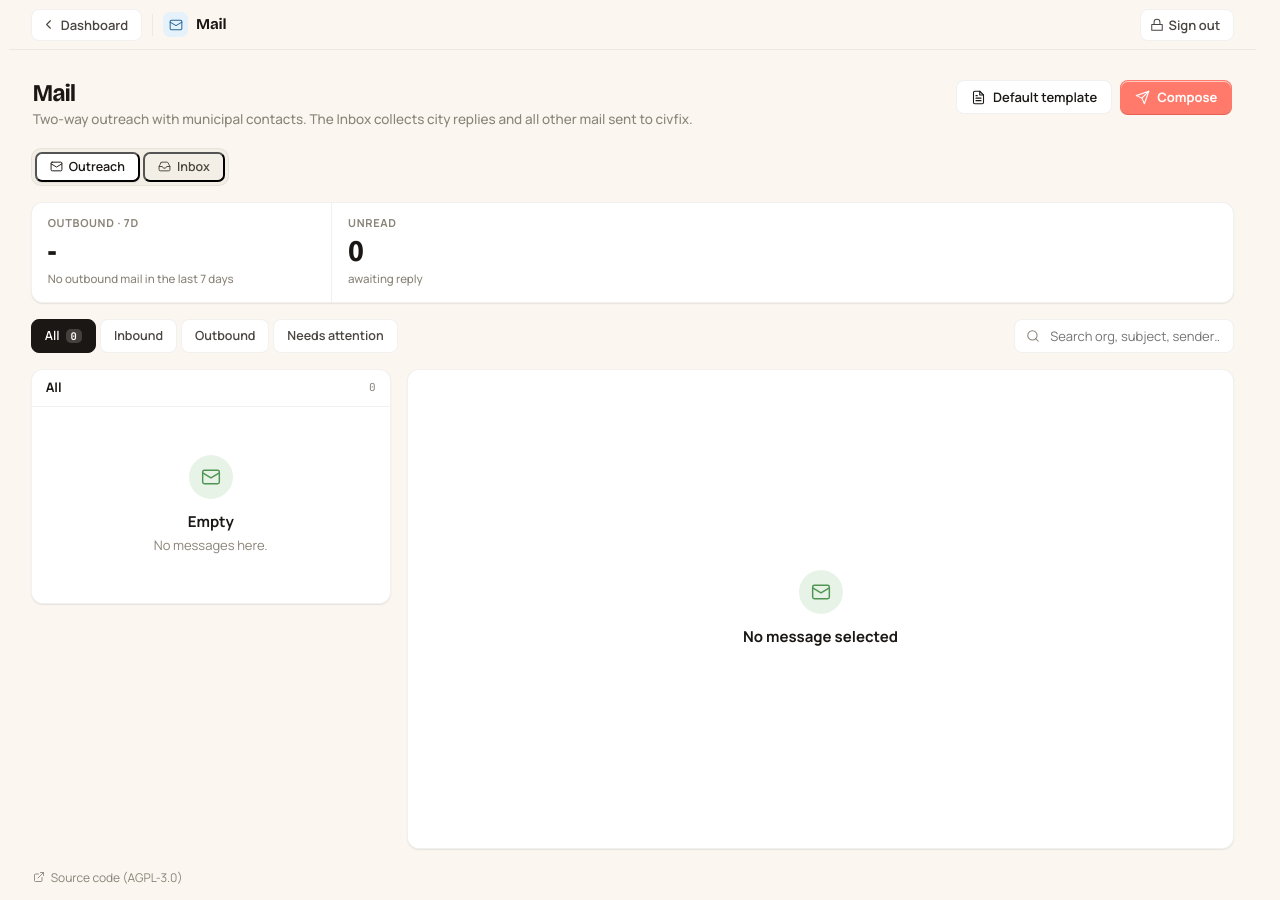
Test: Mail compose modal › closes an empty draft on Escape without leaving Mail, and restores focus
Click the button "Compose" at (1176, 97), box x1=1120 y1=80 x2=1232 y2=114
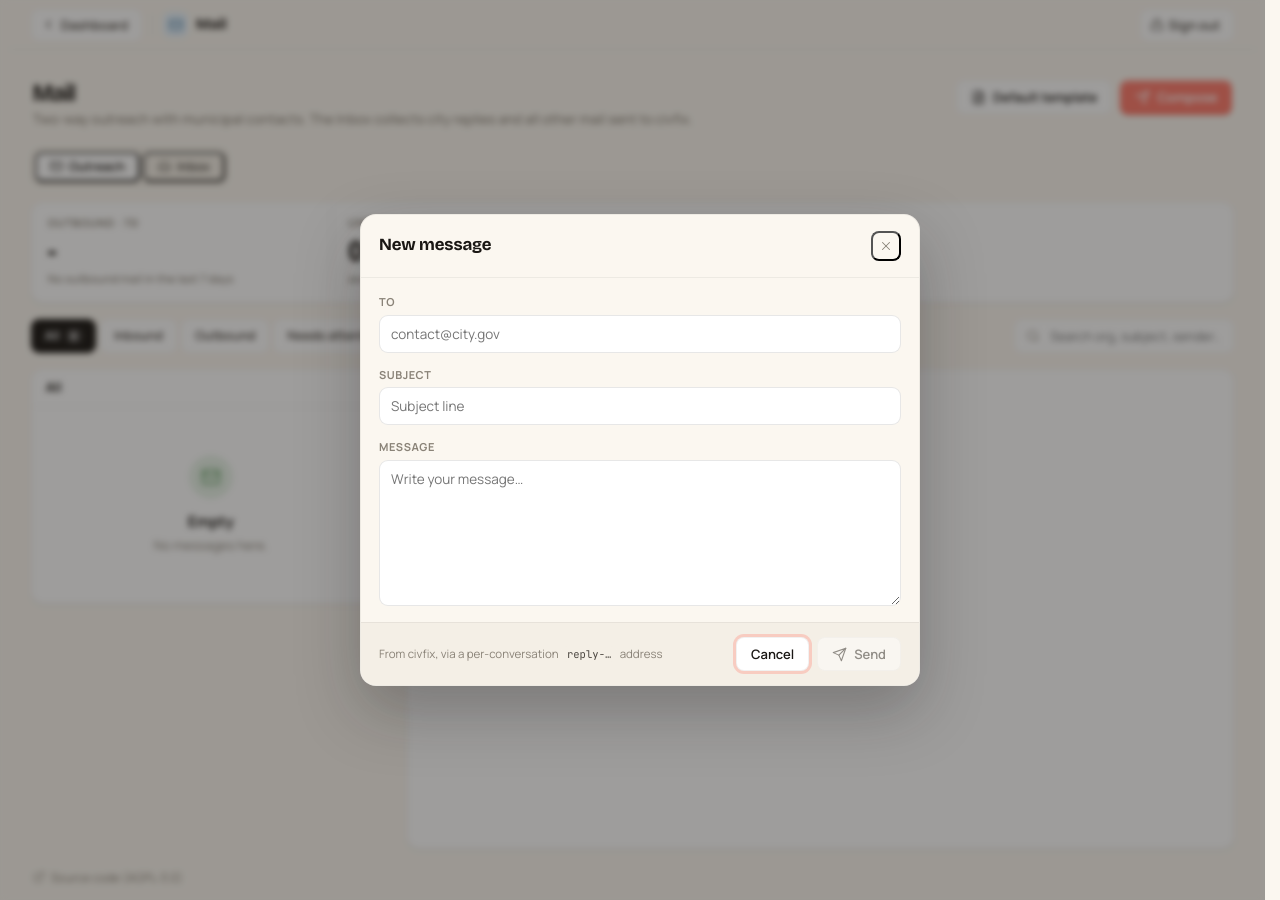
Press Escape
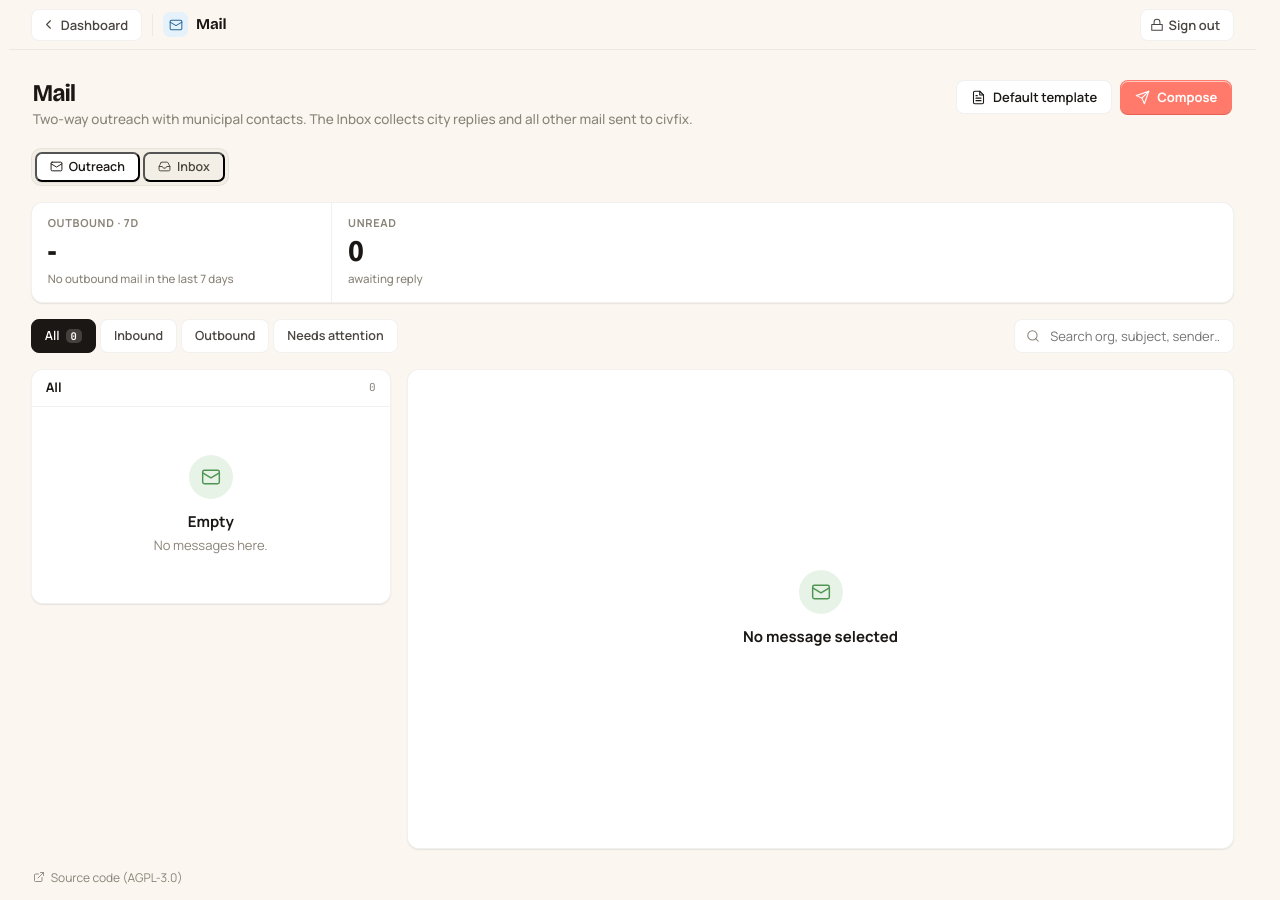
Expected: the dialog is gone
